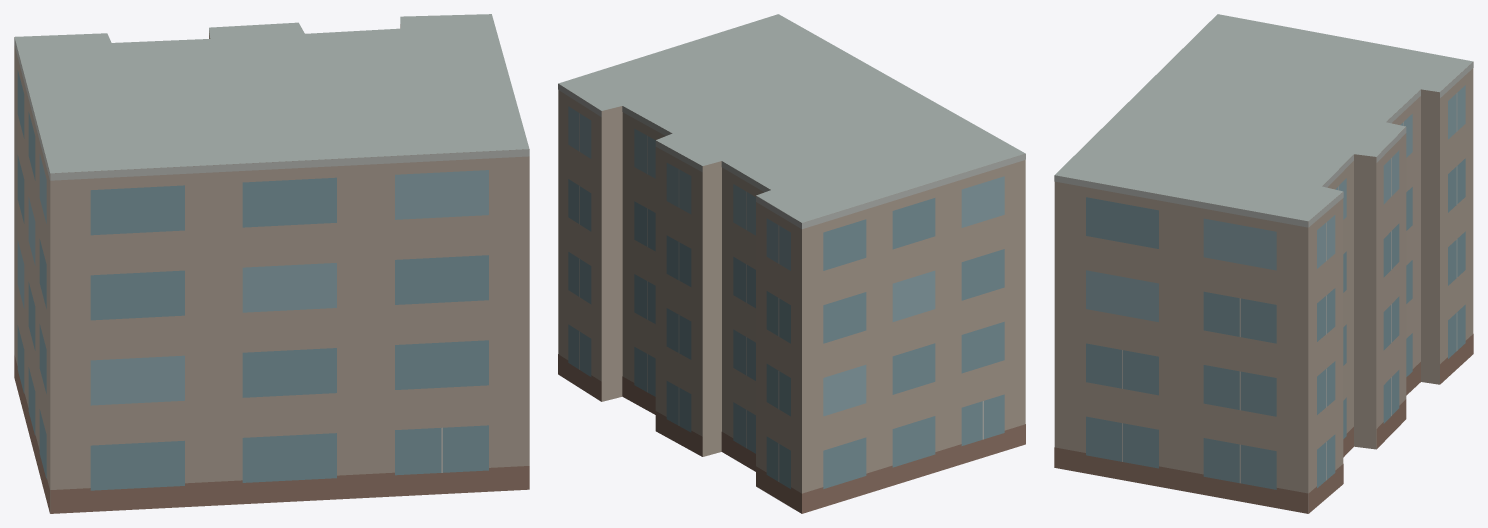
File: survey-upis-32603948.glb
3 renders of one model, left to right at view 1: azimuth 30°, elevation 25°; view 2: azimuth 150°, elevation 25°; view 3: azimuth 270°, elevation 25°, orthographic. The views are drawn at different scales.
Parts seen in each view (by area): view 1: survey-upis-32603948.tmp; view 2: survey-upis-32603948.tmp; view 3: survey-upis-32603948.tmp.
Boxes of the visible parts, left/top/right/bottom form: survey-upis-32603948.tmp: left=14, top=14, right=529, bottom=513; survey-upis-32603948.tmp: left=558, top=14, right=1025, bottom=513; survey-upis-32603948.tmp: left=1054, top=14, right=1473, bottom=513.
Bounding box in the file's own units: 17.18 × 11.3 × 14.68.
